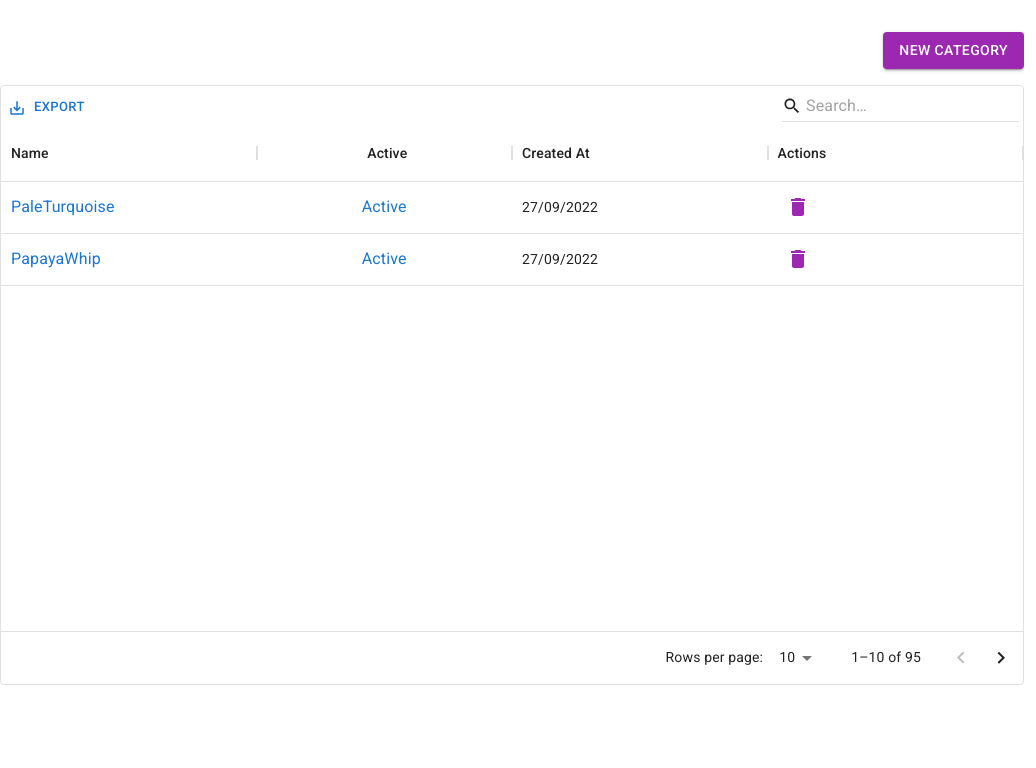
Scenario: CategoryList › should render on page change
This screenshot has width=1036, height=768.
Expected: the text "PaleTurquoise" is shown, [11,195,115,219]
Click the button with test id "KeyboardArrowRightIcon".
click(1001, 658)  # box [981,638,1021,678]
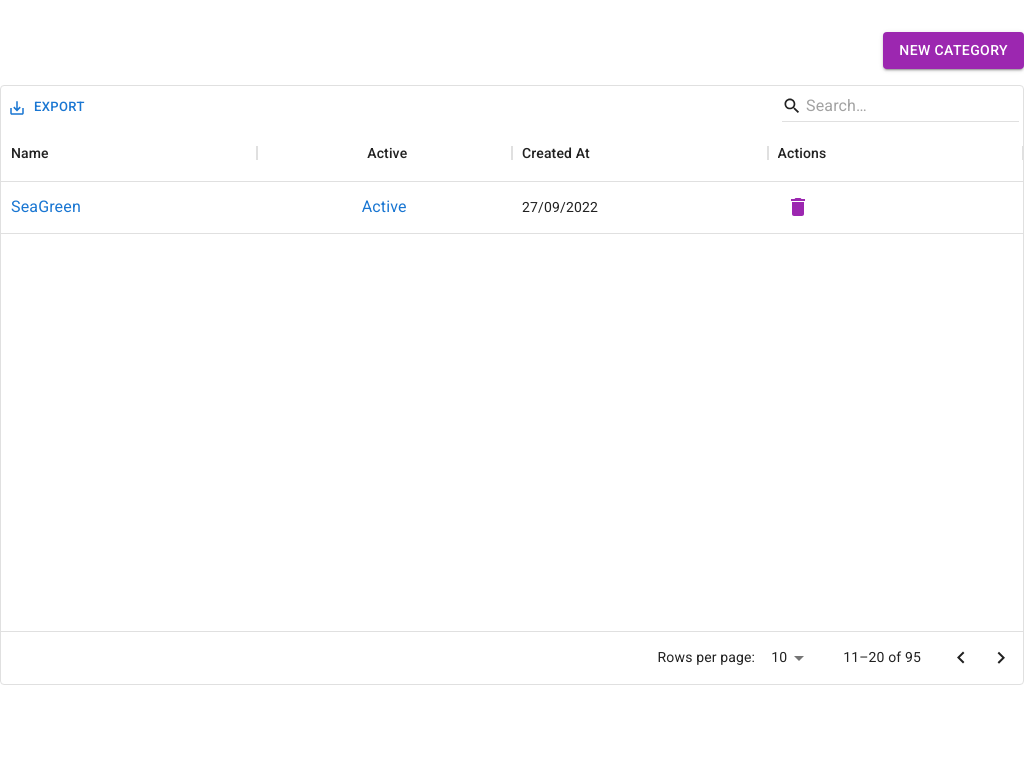
Expected: the text "SeaGreen" is shown, [11,195,81,219]
